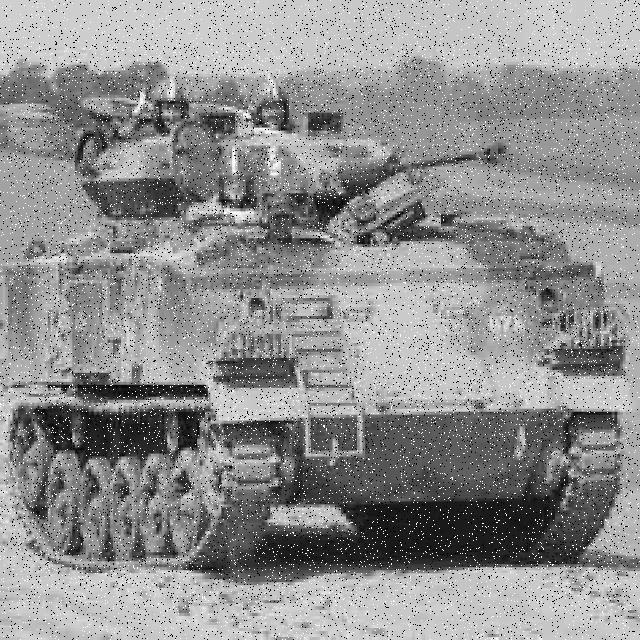MIL_MBT: (9, 44, 627, 608)
